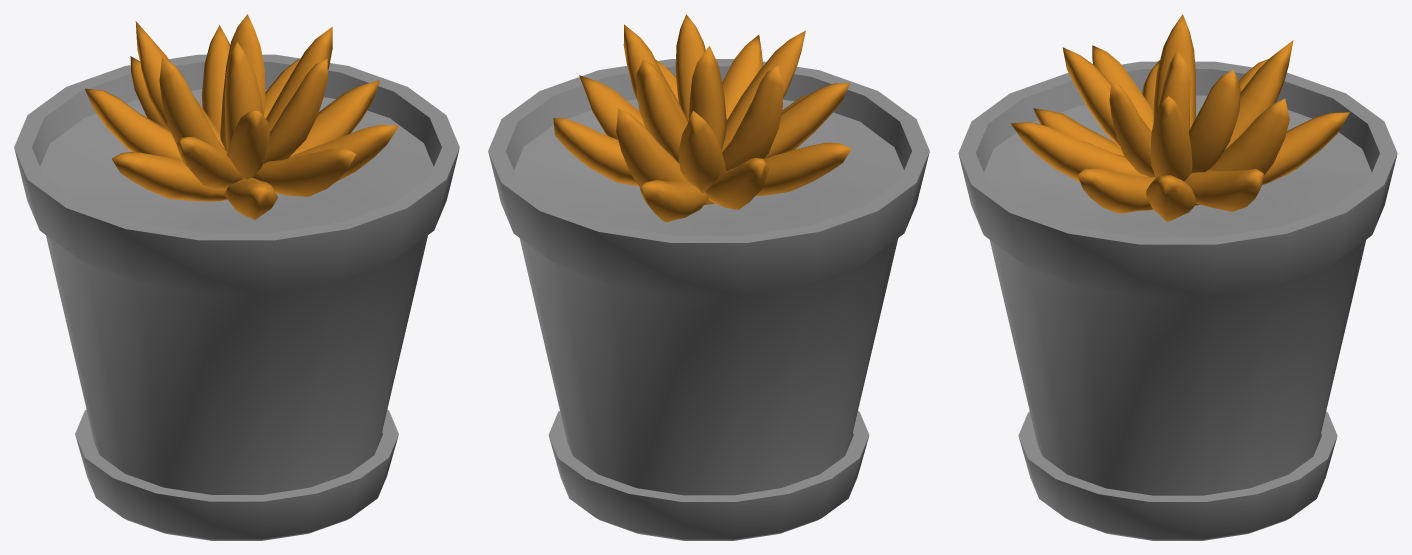
Rendered from SM_Plant_01_C.FBX.
3 views of the same model, side by side, from view 1: azimuth 30°, elevation 25°; view 2: azimuth 150°, elevation 25°; view 3: azimuth 270°, elevation 25° (orthographic).
Visible parts, largest first — view 1: SM_Plant_01_C; view 2: SM_Plant_01_C; view 3: SM_Plant_01_C.
Part boxes in pixels (x1,y1,x2,y2): SM_Plant_01_C: [14, 14, 459, 540]; SM_Plant_01_C: [488, 14, 929, 540]; SM_Plant_01_C: [958, 14, 1397, 540].
Size of what is drawn, in the model's own units: 18.31 by 20.25 by 18.59.
